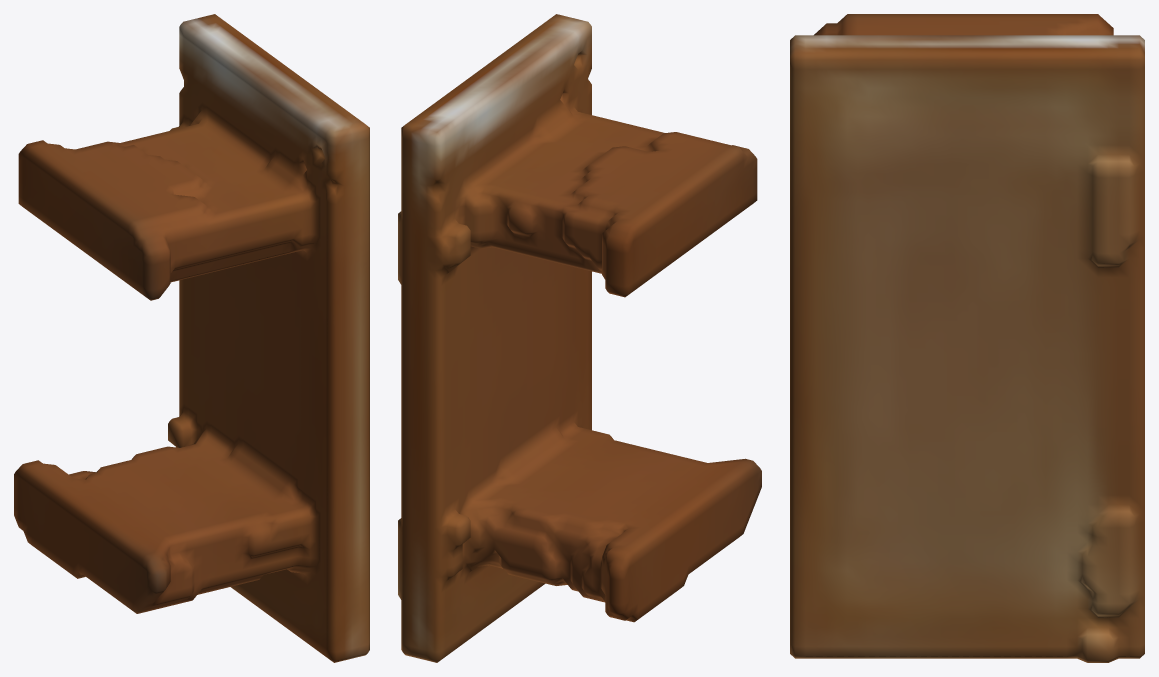
File: A brown rectangle table with two broad legs..glb
3 renders of one model, left to right at view 1: azimuth 30°, elevation 25°; view 2: azimuth 150°, elevation 25°; view 3: azimuth 270°, elevation 25°, orthographic. The views are drawn at different scales.
Parts seen in each view (by area): view 1: A brown rectangle table with two broad legs.; view 2: A brown rectangle table with two broad legs.; view 3: A brown rectangle table with two broad legs..
Boxes of the visible parts, bbox=[...] form: A brown rectangle table with two broad legs.: bbox=[14, 14, 369, 662]; A brown rectangle table with two broad legs.: bbox=[398, 14, 761, 662]; A brown rectangle table with two broad legs.: bbox=[790, 14, 1144, 662].
Size of the model in its own units: 28 by 64 by 34.
